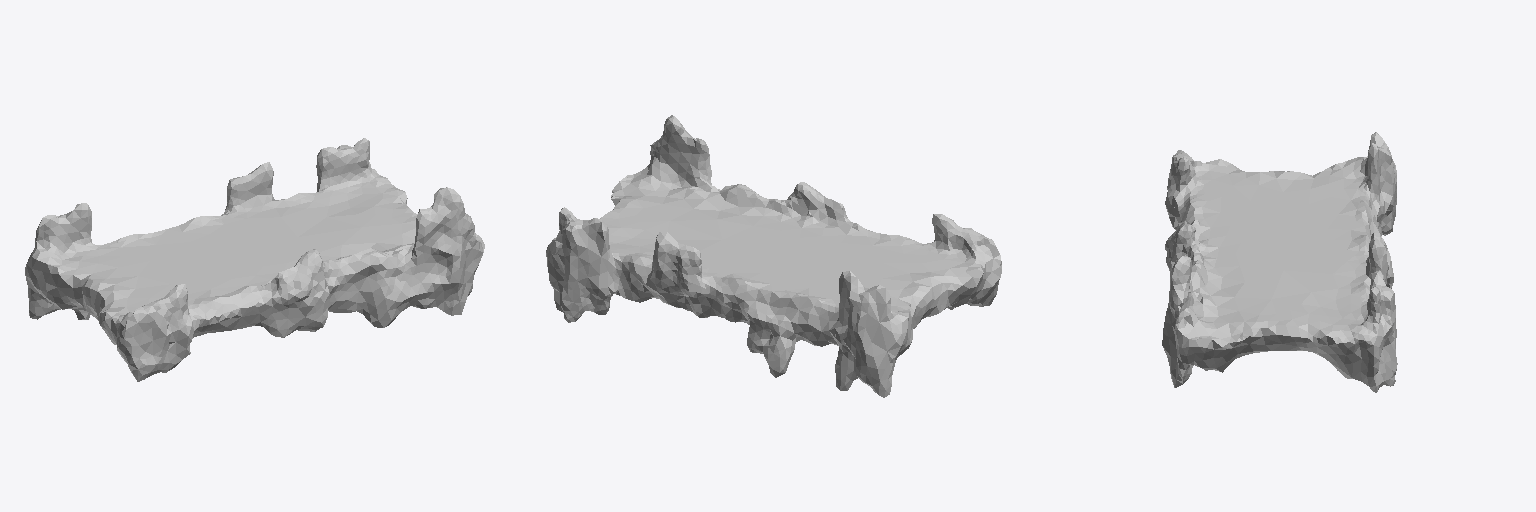
The model's file is plataforma_3.obj.
3 views of the same model, side by side, from view 1: azimuth 30°, elevation 25°; view 2: azimuth 150°, elevation 25°; view 3: azimuth 270°, elevation 25° (orthographic).
Visible parts, largest first — view 1: plataforma; view 2: plataforma; view 3: plataforma.
Part boxes in pixels (x1,y1,x2,y2): plataforma: (25, 138, 484, 381); plataforma: (546, 115, 1001, 397); plataforma: (1162, 132, 1397, 392).
Bounding box in the file's own units: 4.73 × 1.7 × 2.6.